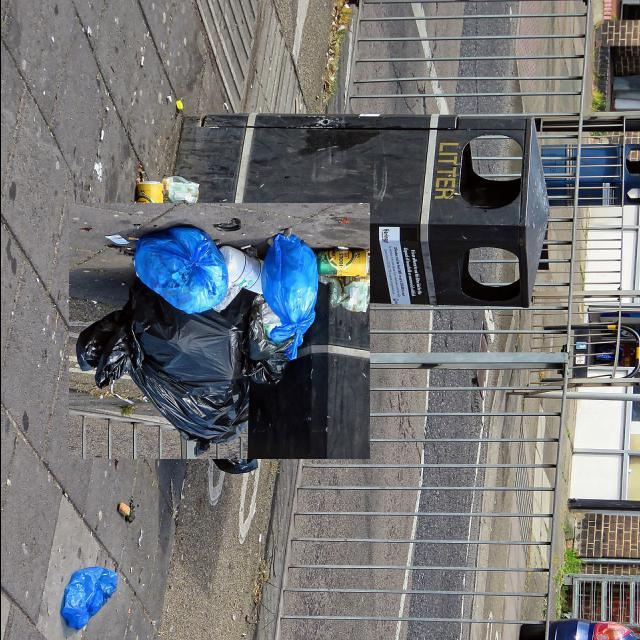Trashbag: (76, 290, 256, 448)
